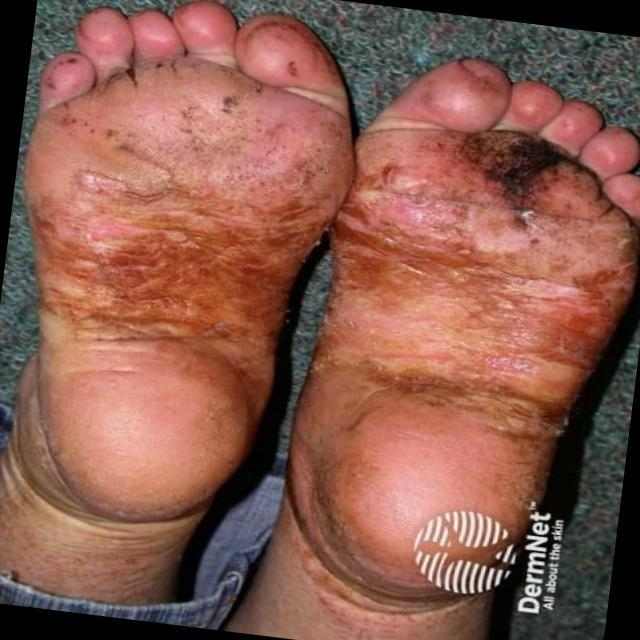Eczema: (306, 116, 640, 448), (50, 62, 285, 406)
